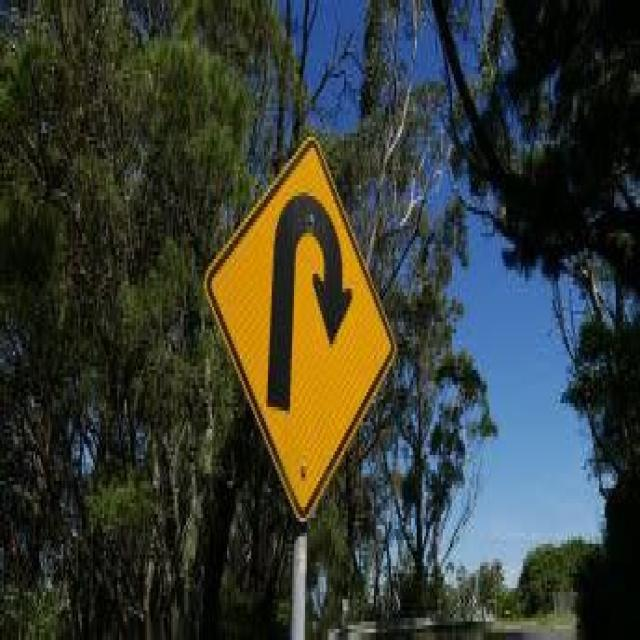Uturn: (206, 134, 395, 518)
